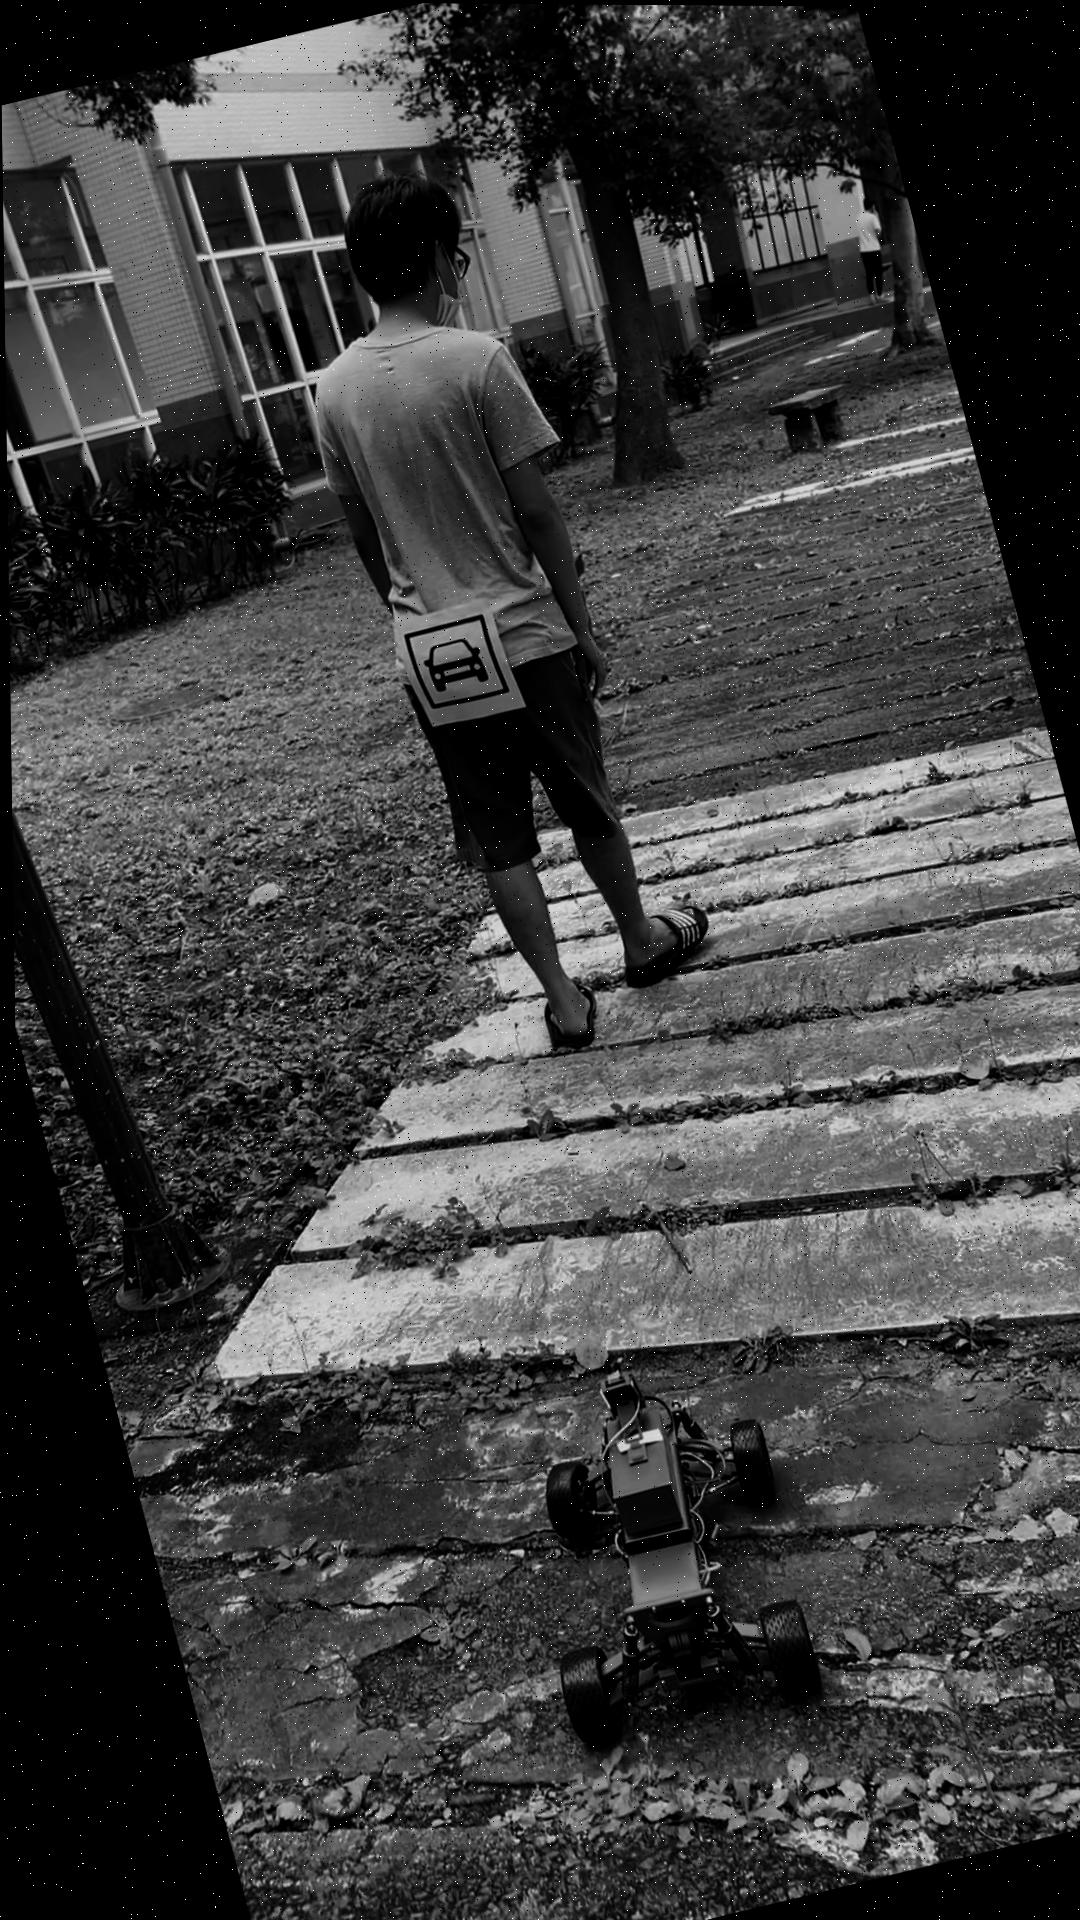car_img: (401, 612, 509, 713)
